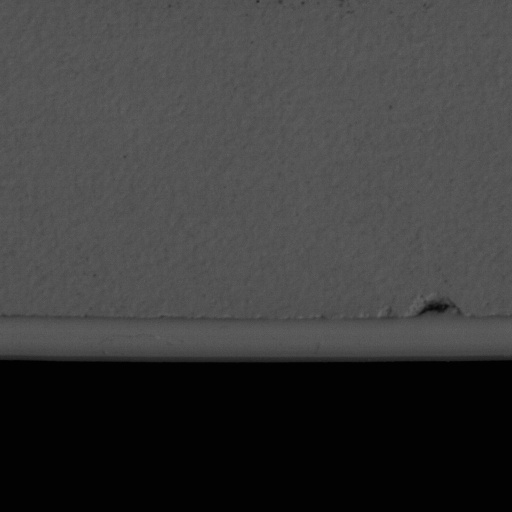bengque: (410, 292, 462, 318)
